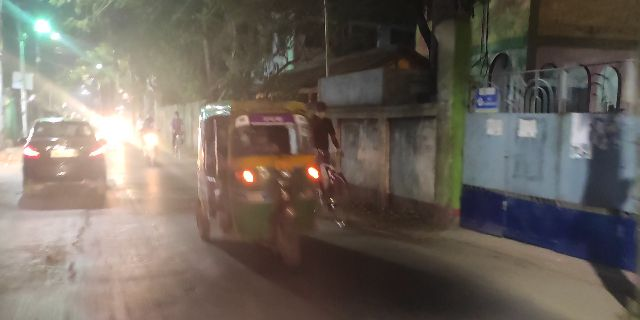Autorickshaw: (193, 101, 323, 278)
Car: (25, 118, 106, 194)
